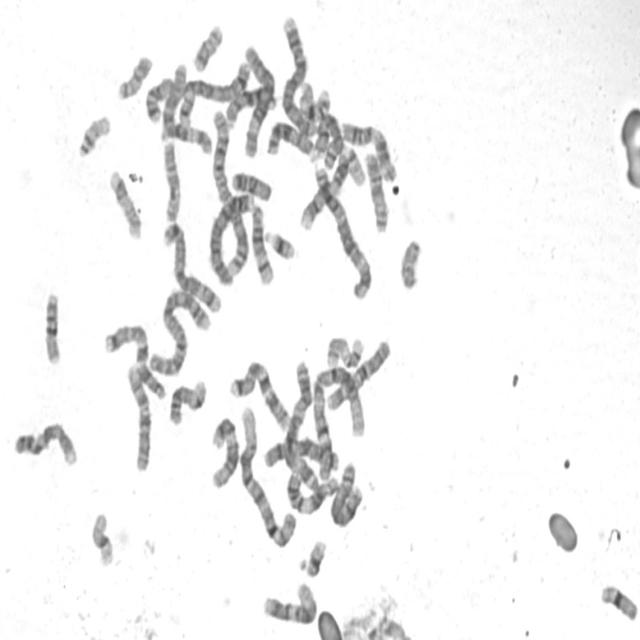A1: (236, 398, 299, 550), (309, 356, 367, 483)
A2: (208, 104, 252, 280), (147, 284, 214, 378)
A3: (310, 158, 375, 300), (282, 357, 322, 496)
B4: (206, 184, 257, 287), (278, 11, 319, 138)
B5: (160, 216, 223, 316), (174, 55, 253, 128)
C10: (323, 334, 392, 413), (124, 358, 154, 473)
C11: (338, 115, 399, 184), (283, 466, 341, 518)
C12: (260, 576, 319, 626), (208, 411, 241, 491)
C6: (158, 61, 215, 157), (240, 39, 277, 159)
C7: (101, 317, 169, 402), (227, 353, 292, 432)
C8: (327, 455, 365, 530), (311, 106, 346, 170)
C9: (296, 145, 352, 231), (10, 416, 80, 469)
D13: (222, 80, 279, 130), (264, 115, 319, 161)
D14: (247, 198, 277, 287), (166, 374, 208, 427)
D15: (362, 147, 391, 234), (160, 135, 183, 224)
E16: (41, 286, 63, 366), (296, 78, 332, 122)
E17: (106, 164, 144, 242), (323, 330, 366, 370)
E18: (143, 72, 176, 124), (229, 165, 274, 203)
F19: (598, 578, 639, 624), (88, 507, 117, 568)
F20: (114, 49, 156, 102), (190, 18, 226, 74)
G21: (262, 224, 298, 262), (300, 534, 328, 579)
G22: (75, 109, 113, 160), (342, 141, 368, 189)
X: (261, 430, 342, 476)
Y: (397, 232, 424, 291)
